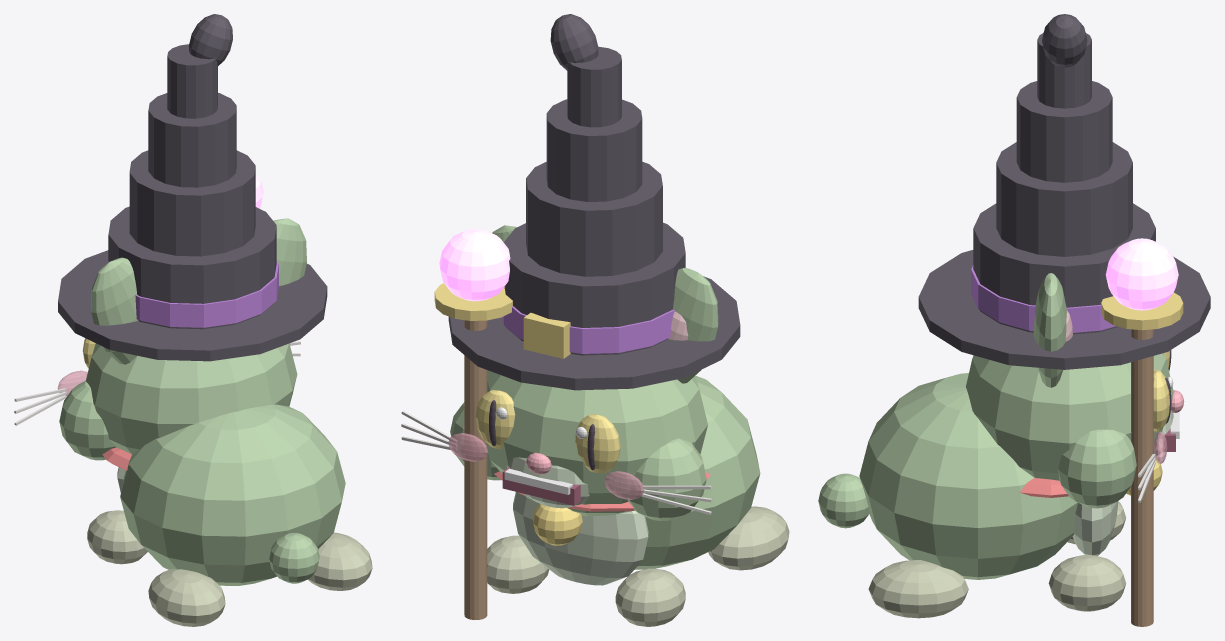
File: EpicHamsterWitch.glb
3 renders of one model, left to right at view 1: azimuth 30°, elevation 25°; view 2: azimuth 150°, elevation 25°; view 3: azimuth 270°, elevation 25°, orthographic. The views are drawn at different scales.
Parts seen in each view (by area): view 1: EpicHamsterWitch_4, EpicHamsterWitch_1, EpicHamsterWitch_7, EpicHamsterWitch_6, EpicHamsterWitch_10; view 2: EpicHamsterWitch_1, EpicHamsterWitch_4, EpicHamsterWitch_7, EpicHamsterWitch_8, EpicHamsterWitch_3, EpicHamsterWitch_14, EpicHamsterWitch_5, EpicHamsterWitch_15, EpicHamsterWitch_6, EpicHamsterWitch_12, EpicHamsterWitch_10, EpicHamsterWitch_16 (+3 smaller); view 3: EpicHamsterWitch_4, EpicHamsterWitch_1, EpicHamsterWitch_7, EpicHamsterWitch_3, EpicHamsterWitch_5, EpicHamsterWitch_6, EpicHamsterWitch_14, EpicHamsterWitch_8, EpicHamsterWitch_15, EpicHamsterWitch_9.
Boxes of the visible parts, bbox=[...] form: EpicHamsterWitch_4: bbox=[59, 218, 345, 585]; EpicHamsterWitch_1: bbox=[58, 14, 327, 361]; EpicHamsterWitch_7: bbox=[87, 510, 372, 626]; EpicHamsterWitch_6: bbox=[108, 261, 278, 327]; EpicHamsterWitch_10: bbox=[14, 341, 300, 425]; EpicHamsterWitch_1: bbox=[448, 14, 740, 390]; EpicHamsterWitch_4: bbox=[450, 225, 760, 569]; EpicHamsterWitch_7: bbox=[487, 506, 789, 626]; EpicHamsterWitch_8: bbox=[506, 457, 648, 585]; EpicHamsterWitch_3: bbox=[464, 320, 487, 619]; EpicHamsterWitch_14: bbox=[434, 283, 582, 545]; EpicHamsterWitch_5: bbox=[439, 228, 510, 301]; EpicHamsterWitch_15: bbox=[475, 390, 620, 473]; EpicHamsterWitch_6: bbox=[502, 306, 674, 353]; EpicHamsterWitch_12: bbox=[448, 433, 643, 499]; EpicHamsterWitch_10: bbox=[401, 410, 711, 514]; EpicHamsterWitch_16: bbox=[496, 407, 587, 494]; EpicHamsterWitch_4: bbox=[818, 273, 1173, 579]; EpicHamsterWitch_1: bbox=[918, 14, 1210, 369]; EpicHamsterWitch_7: bbox=[868, 501, 1126, 618]; EpicHamsterWitch_3: bbox=[1131, 329, 1153, 626]; EpicHamsterWitch_5: bbox=[1105, 238, 1178, 310]; EpicHamsterWitch_6: bbox=[971, 265, 1116, 332]; EpicHamsterWitch_14: bbox=[1101, 292, 1183, 495]; EpicHamsterWitch_8: bbox=[1072, 410, 1173, 555]; EpicHamsterWitch_15: bbox=[1153, 351, 1169, 431]; EpicHamsterWitch_9: bbox=[1019, 478, 1068, 497].
Size of the model in its own units: 3.89 by 7.01 by 4.3.
